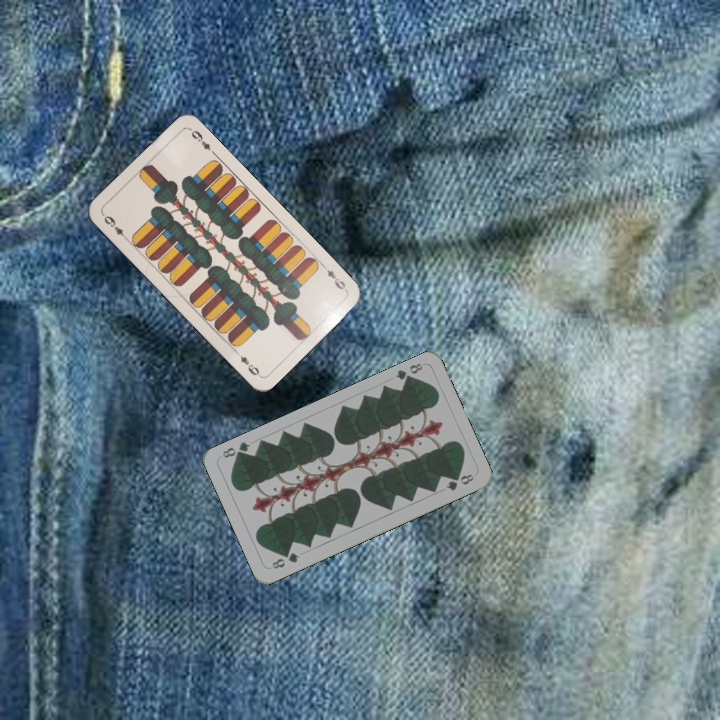E9: (99, 210, 131, 243), (318, 260, 349, 294)
G8: (391, 359, 425, 386), (268, 548, 302, 572)
